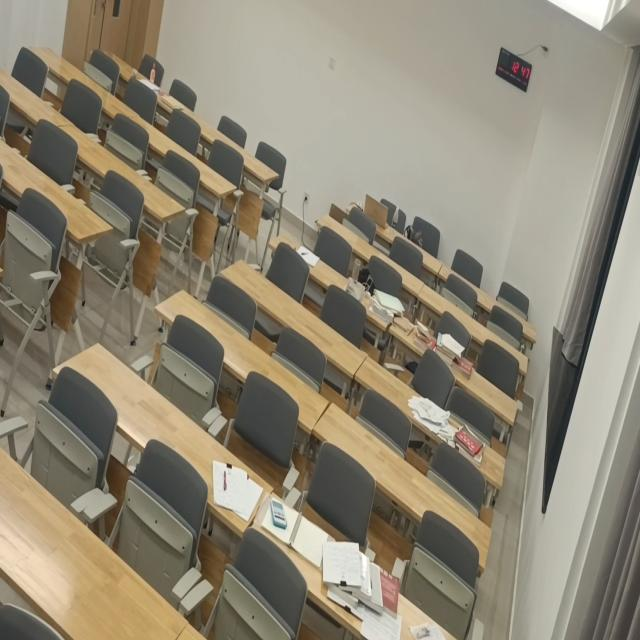Non-empty: (49, 336, 271, 529), (247, 496, 460, 640), (354, 355, 507, 484), (383, 308, 520, 425), (269, 232, 398, 328), (344, 199, 445, 275), (101, 51, 196, 122)
empty: (2, 446, 190, 640), (312, 401, 495, 569), (155, 287, 329, 432), (219, 254, 367, 376), (53, 125, 184, 220), (2, 139, 113, 244), (120, 117, 235, 198), (438, 263, 540, 347)
